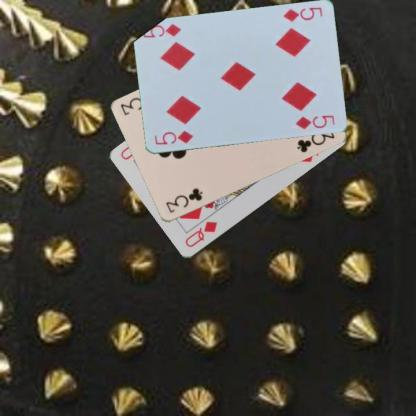3c: (163, 185, 204, 215)
5d: (281, 4, 323, 24), (152, 128, 194, 146)
Qd: (182, 218, 218, 249)
